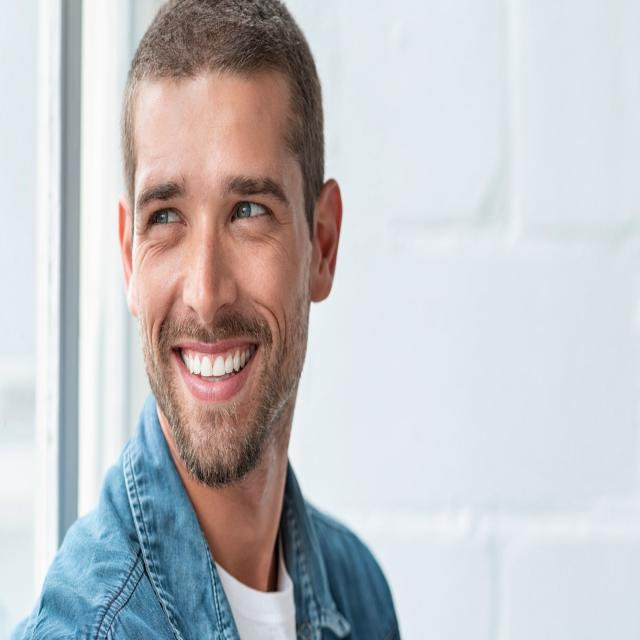adult: (14, 0, 400, 640)
